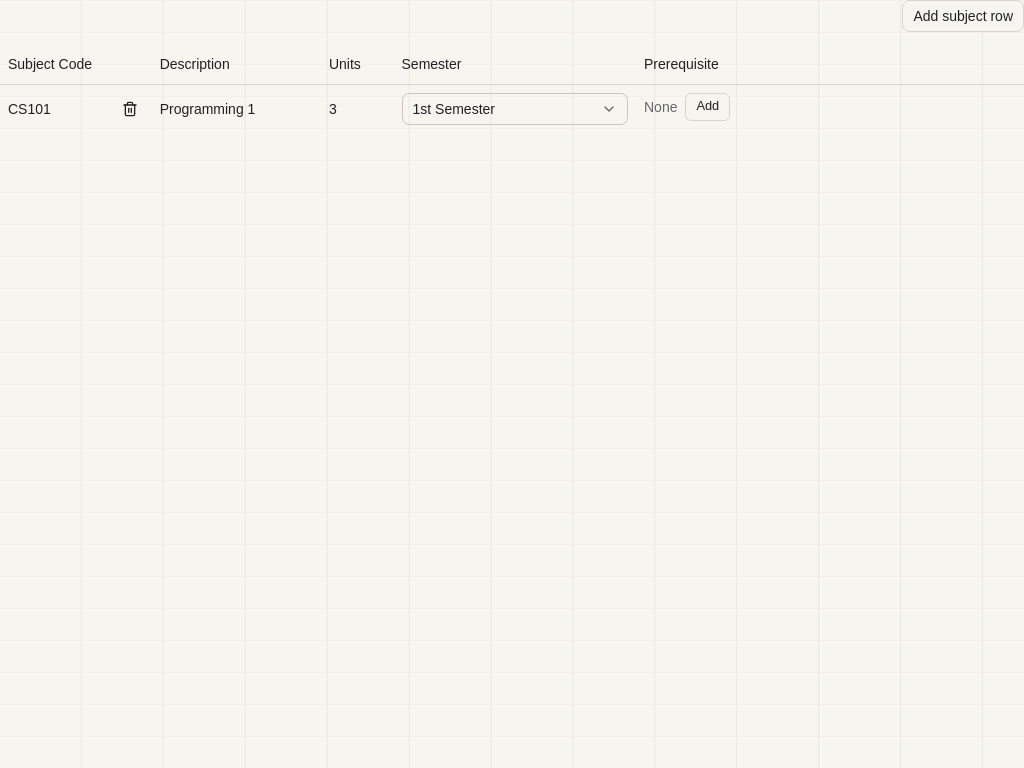
it: CurriculumSubjectSpreadsheet › opens the prerequisite editor when a row already has prerequisites
Click the button with aria-label "Add prerequisite for CS101": (708, 106) [686,92,730,120]
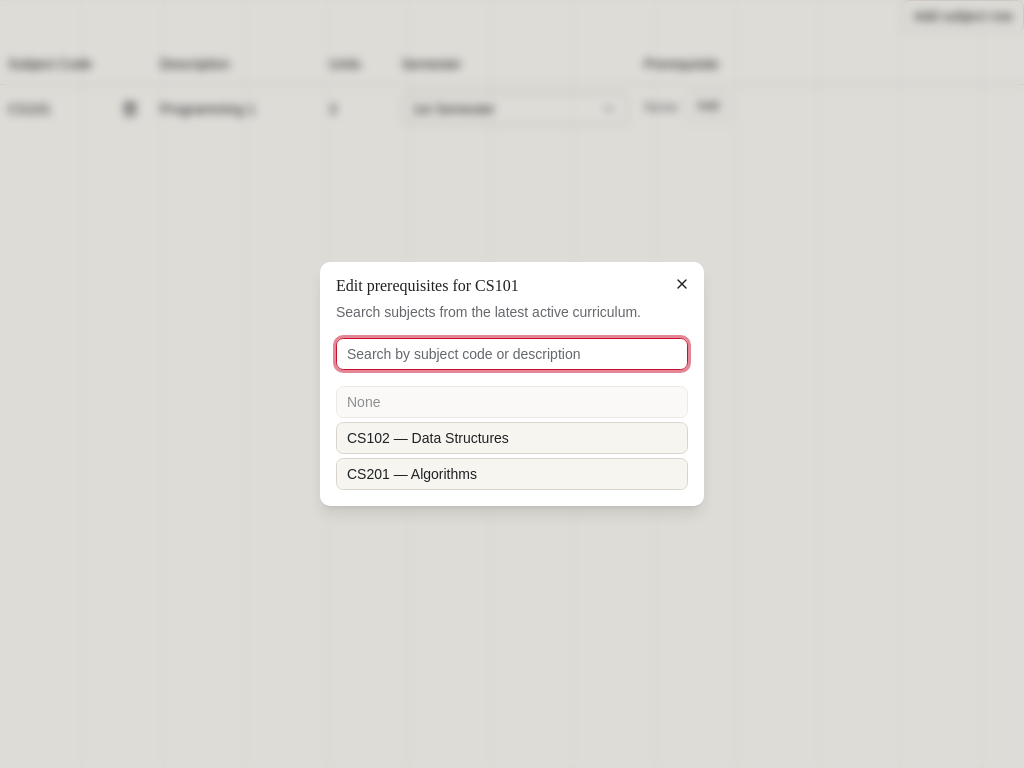
Click the button "CS102 — Data Structures": (368, 438) [336,422,688,454]
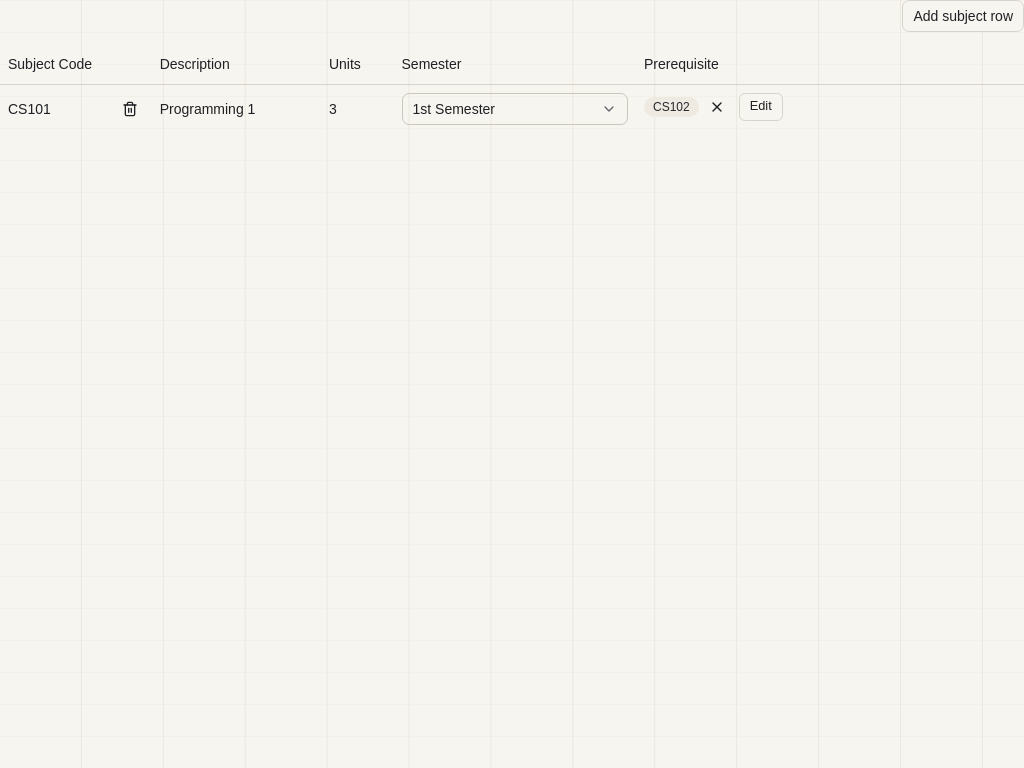
Check: the button with aria-label "Edit prerequisites for CS101" is shown
Click the button with aria-label "Edit prerequisites for CS101": (761, 106) [739,92,783,120]
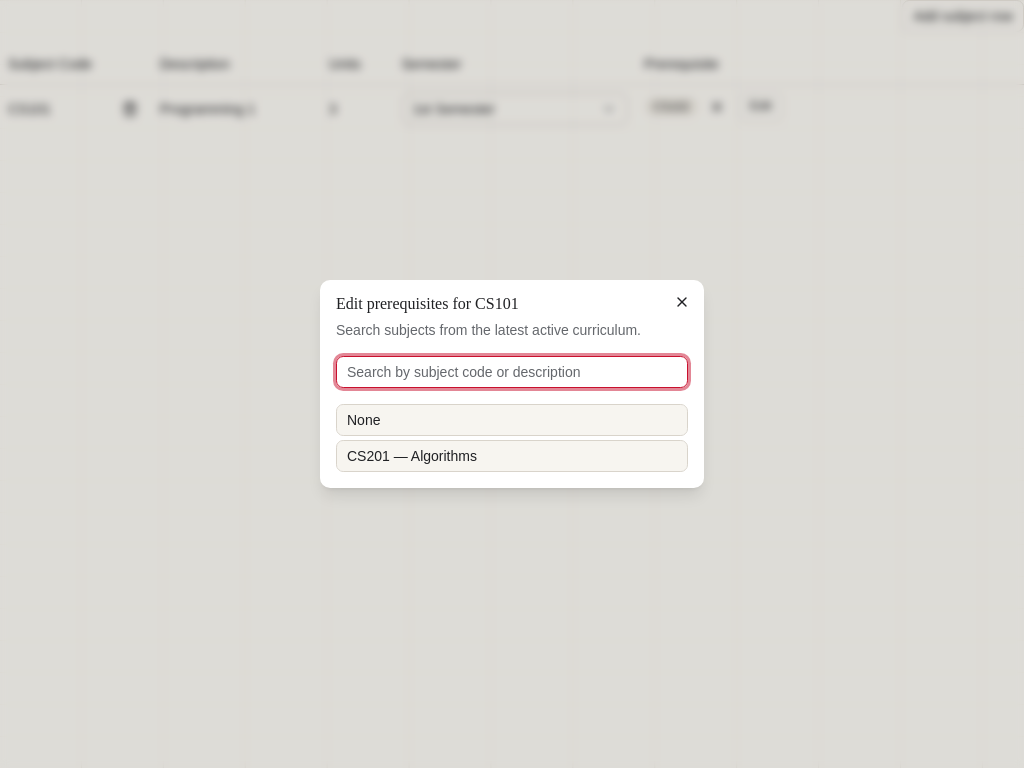
Check: the dialog "Edit prerequisites for CS101" is shown, box [320,280,704,488]
